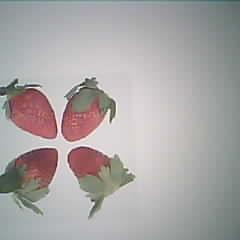straw-ripe: (9, 86, 57, 140), (61, 89, 108, 141), (68, 146, 118, 191), (10, 147, 58, 187)
